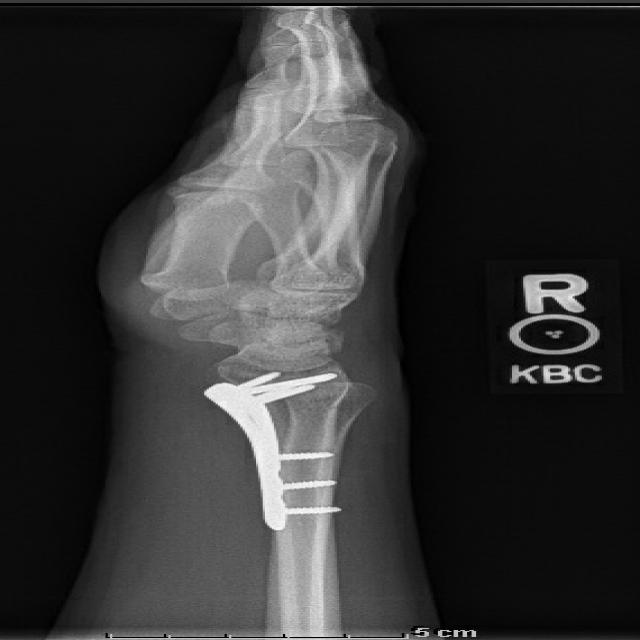x-ray: (184, 365, 391, 538)
